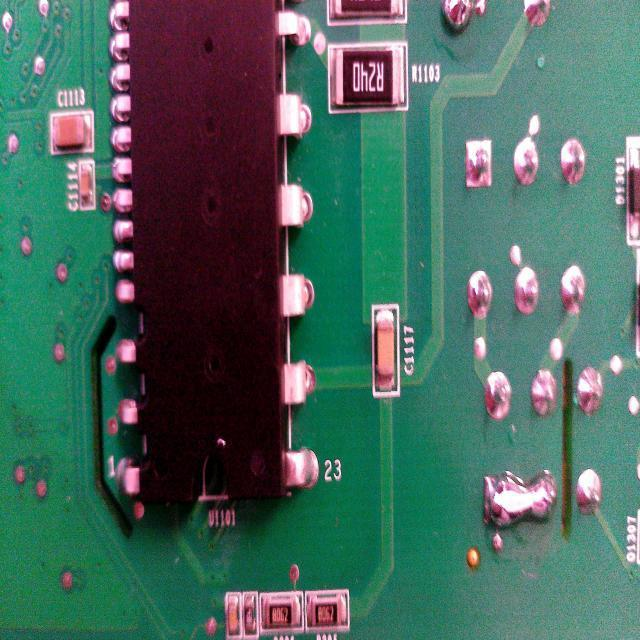Soldering shorted: (480, 470, 562, 528)
